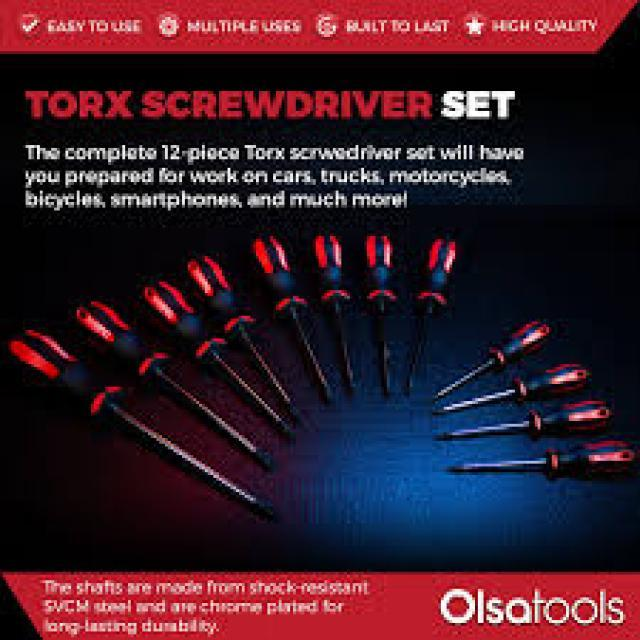screwdriver: (2, 324, 282, 521), (71, 294, 279, 473), (142, 278, 302, 442), (185, 253, 316, 427), (252, 234, 338, 404), (398, 226, 467, 403), (420, 317, 560, 403), (431, 356, 596, 418), (434, 398, 613, 447), (441, 438, 640, 481), (312, 228, 362, 396), (362, 226, 397, 405)
